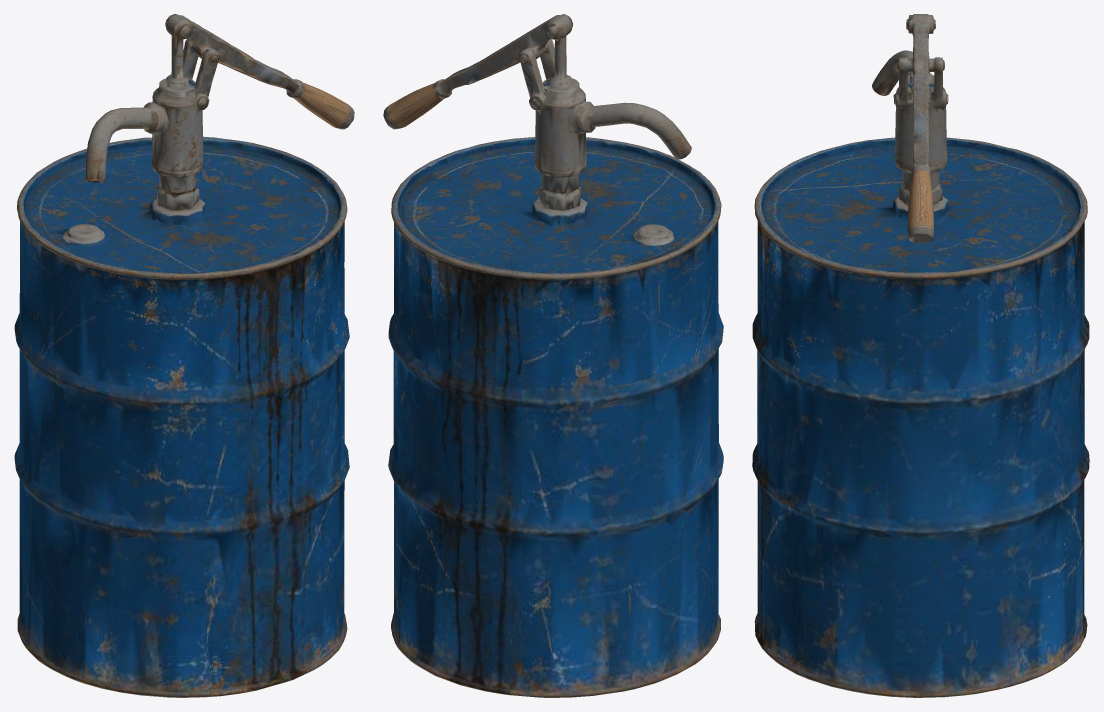
File: drum.glb
3 views of the same model, side by side, from view 1: azimuth 30°, elevation 25°; view 2: azimuth 150°, elevation 25°; view 3: azimuth 270°, elevation 25° (orthographic).
Bounding box in the file's own units: 1.03 × 1.9 × 0.9497.
1 material, 1 textured.
